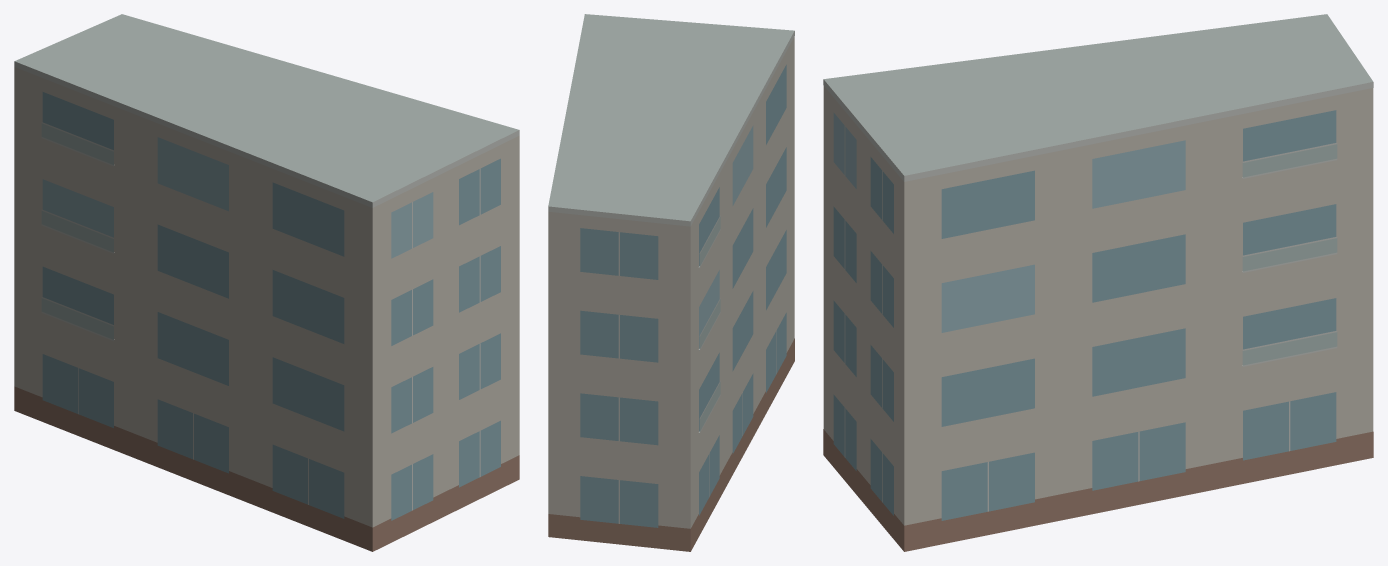
File: survey-upis-32912969.glb
3 renders of one model, left to right at view 1: azimuth 30°, elevation 25°; view 2: azimuth 150°, elevation 25°; view 3: azimuth 270°, elevation 25°, orthographic. The views are drawn at different scales.
Parts seen in each view (by area): view 1: survey-upis-32912969.tmp; view 2: survey-upis-32912969.tmp; view 3: survey-upis-32912969.tmp.
Boxes of the visible parts, left/top/right/bottom form: survey-upis-32912969.tmp: left=14, top=14, right=519, bottom=551; survey-upis-32912969.tmp: left=548, top=14, right=794, bottom=551; survey-upis-32912969.tmp: left=823, top=14, right=1373, bottom=551.
Bounding box in the file's own units: 14.05 × 15.2 × 20.16.
